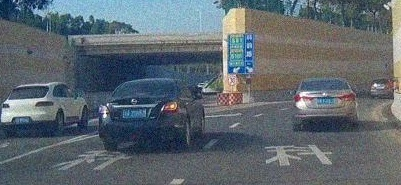L_light: (294, 94, 312, 101), (98, 105, 110, 113), (1, 103, 10, 108)
R_light: (161, 102, 178, 111), (339, 92, 355, 100), (34, 100, 53, 106)
T_light: (140, 81, 151, 84), (26, 87, 34, 89), (319, 80, 327, 82)
day-no: (293, 77, 356, 130), (1, 83, 55, 137)
day-right: (98, 78, 179, 150)
